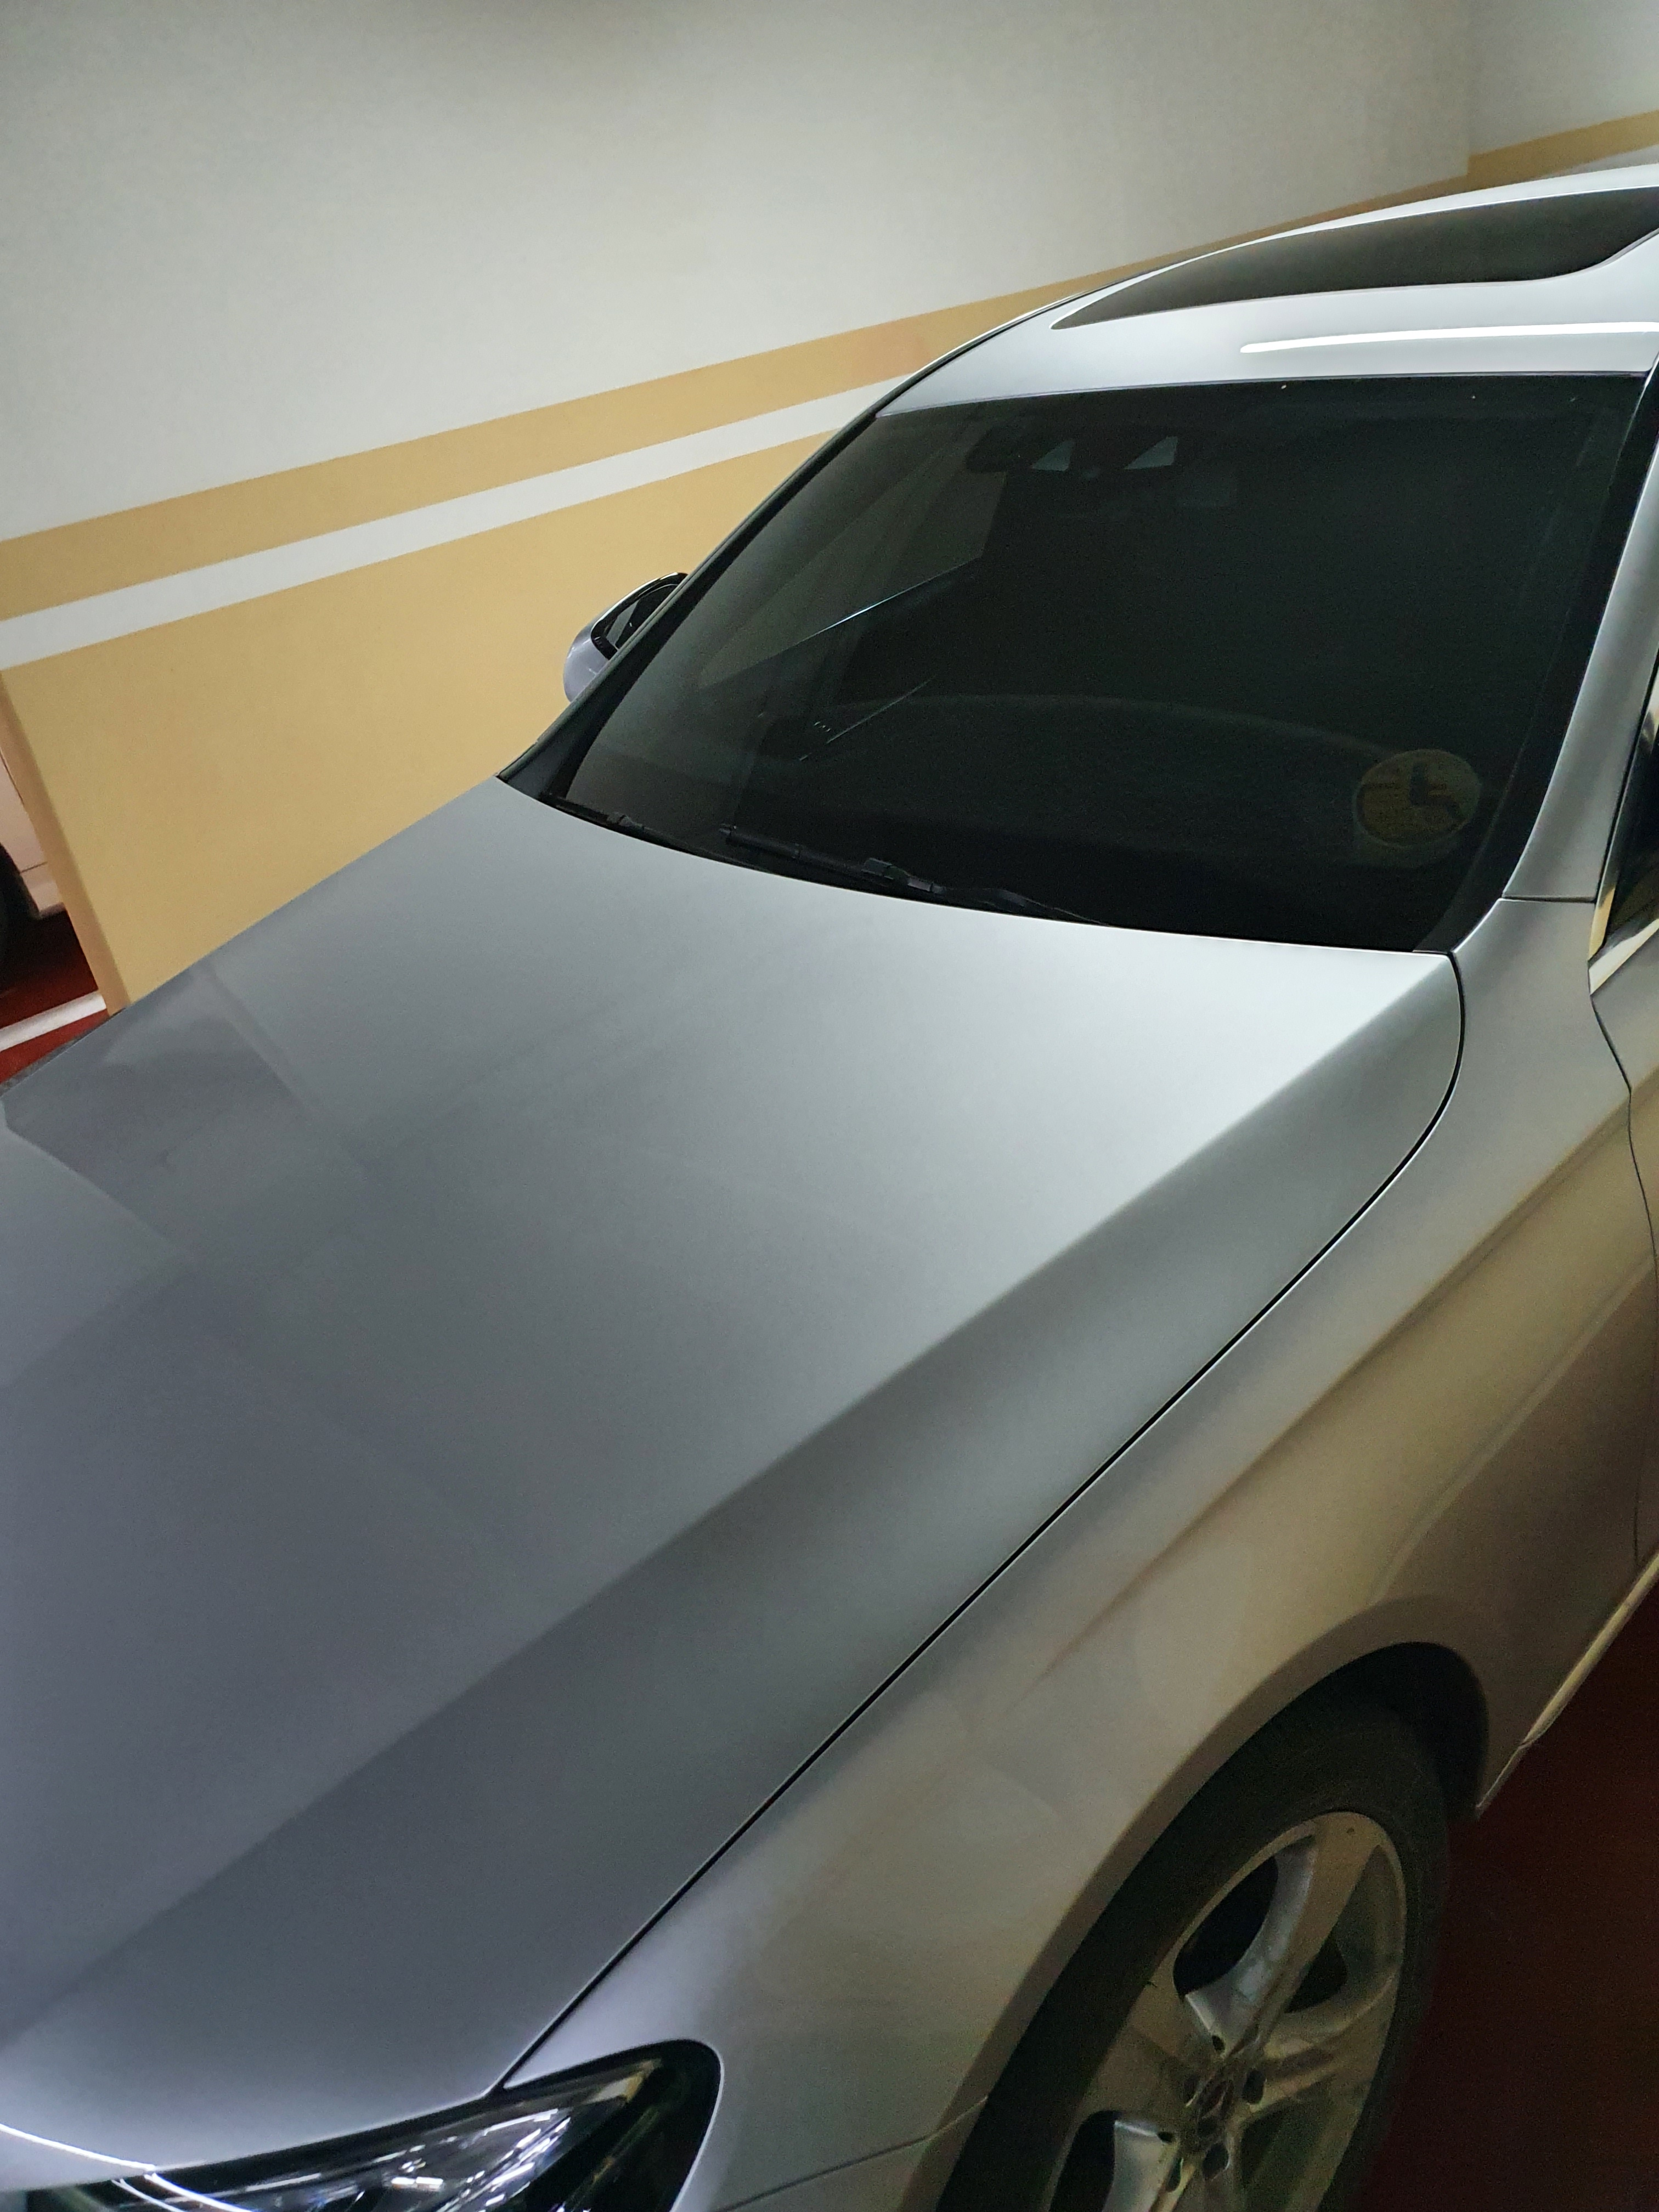disabled_parking: (1352, 742, 1486, 852)
